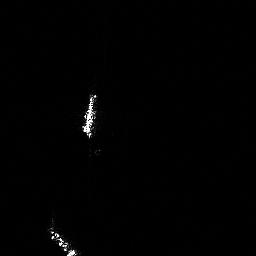ship: (50, 229, 77, 256), (83, 95, 95, 137)
